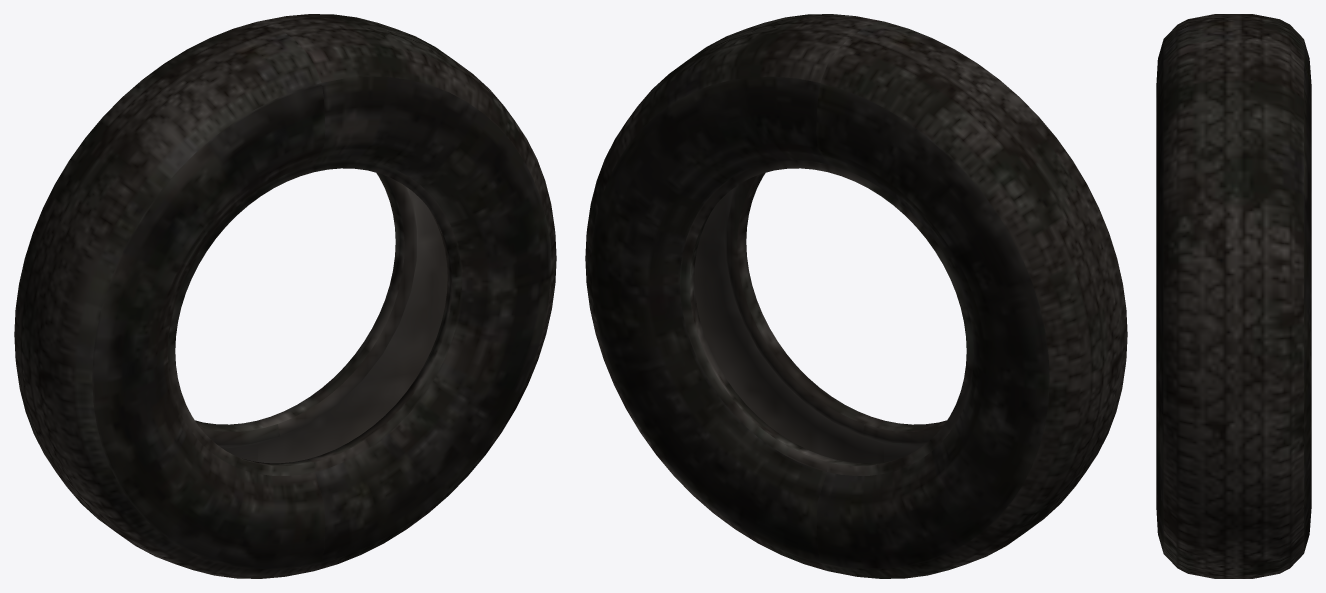
Rendered from old_tyre.glb.
3 renders of one model, left to right at view 1: azimuth 30°, elevation 25°; view 2: azimuth 150°, elevation 25°; view 3: azimuth 270°, elevation 25°, orthographic. The views are drawn at different scales.
Visible parts, largest first — view 1: old_tyre; view 2: old_tyre; view 3: old_tyre.
Boxes of the visible parts, left/top/right/bottom form: old_tyre: left=14, top=14, right=556, bottom=578; old_tyre: left=585, top=14, right=1127, bottom=578; old_tyre: left=1156, top=14, right=1311, bottom=578.
Bounding box in the file's own units: 0.6 × 0.6 × 0.165.
1 material, 1 textured.
